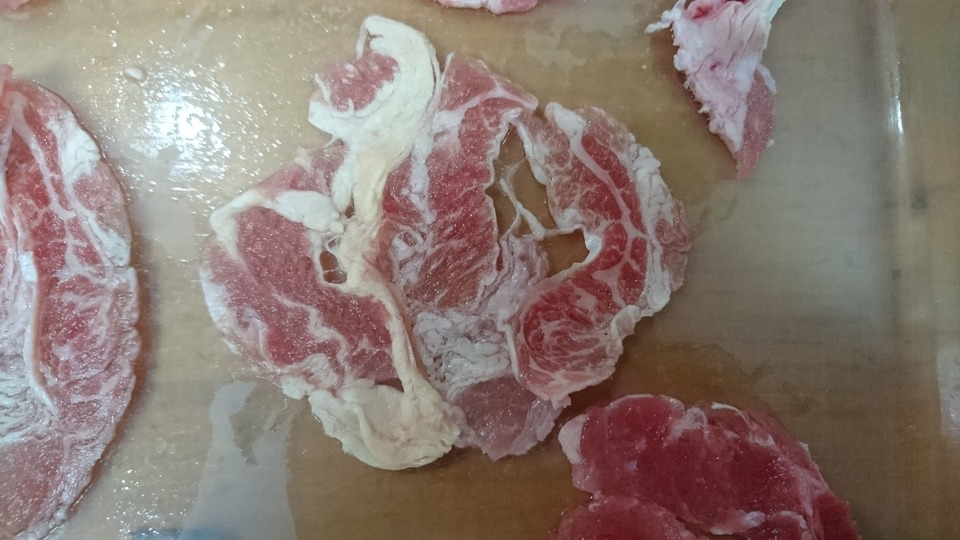restructured meat: (220, 26, 678, 467), (1, 64, 168, 538), (539, 399, 858, 540)
